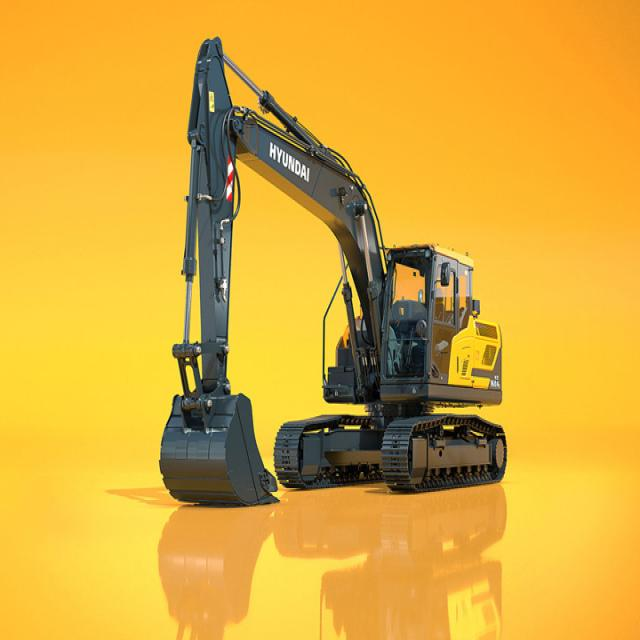excavator: (163, 32, 519, 508)
